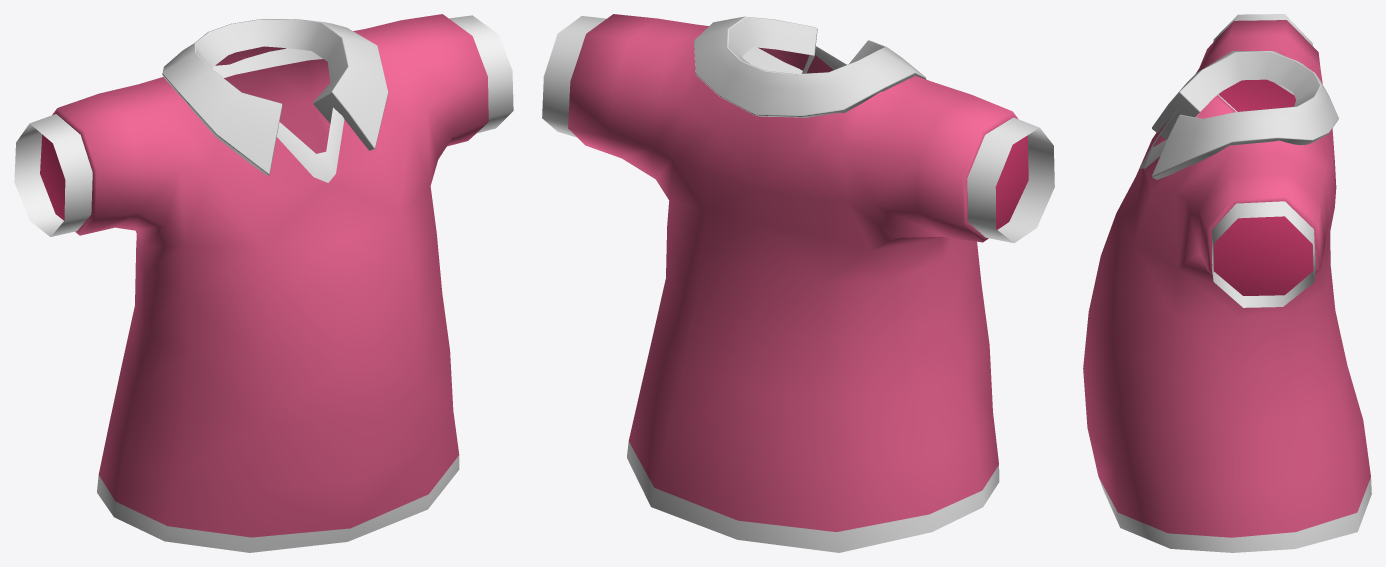
File: Outerwear_Pink_011.glb
The picture shows the model from 3 angles, left to right: view 1: azimuth 30°, elevation 25°; view 2: azimuth 150°, elevation 25°; view 3: azimuth 270°, elevation 25°; orthographic projection. The views are drawn at different scales.
Visible parts, largest first — view 1: Outerwear_Pink_011; view 2: Outerwear_Pink_011; view 3: Outerwear_Pink_011.
Boxes of the visible parts, box(x1,y1,x2,y2) form: Outerwear_Pink_011: box(14, 14, 513, 552); Outerwear_Pink_011: box(542, 14, 1054, 552); Outerwear_Pink_011: box(1083, 14, 1371, 552).
Bounding box in the file's own units: 0.6893 × 0.6487 × 0.41.
1 material, 1 textured.
